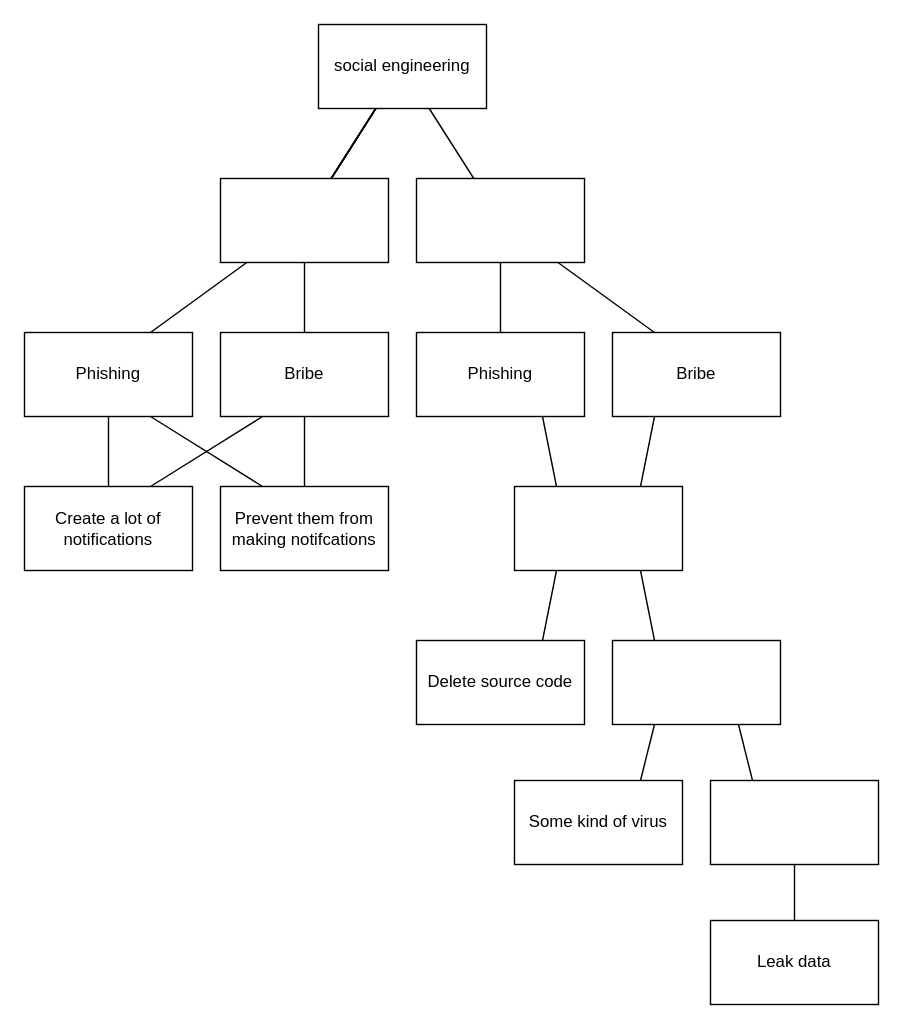
The diagram is 903 pixels wide and 1029 high, and some of its shapes have lost their labels. Each missing label, with the centre of its shape:
"Add malicious code to the app" goes at (x=695, y=681).
"CovidMelder Developers" goes at (x=499, y=219).
"GGD Employee" goes at (x=303, y=219).
"Influence source code" goes at (x=597, y=527).
"Save data from users" goes at (x=793, y=821).
